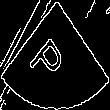P_NE: (33, 25, 77, 85)
